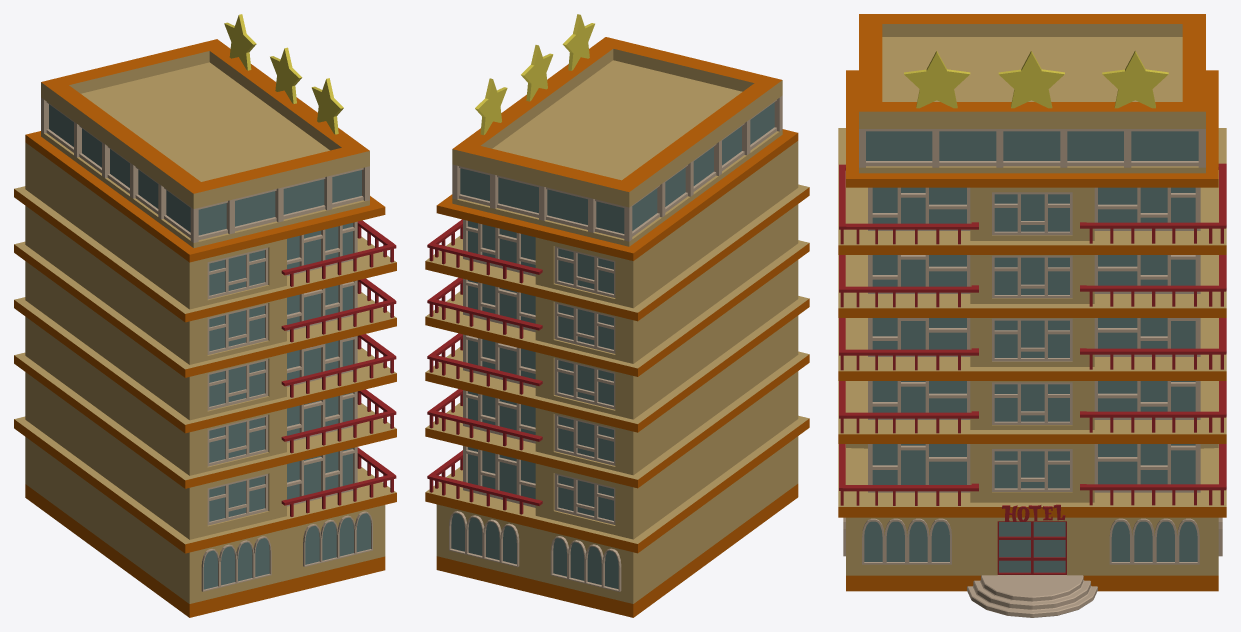
The model's file is building5.glb.
3 views of the same model, side by side, from view 1: azimuth 30°, elevation 25°; view 2: azimuth 150°, elevation 25°; view 3: azimuth 270°, elevation 25° (orthographic). The views are drawn at different scales.
Visible parts, largest first — view 1: Hotel(3star); view 2: Hotel(3star); view 3: Hotel(3star).
Part boxes in pixels (x1=…): Hotel(3star): x1=14, y1=14, x2=396, y2=617; Hotel(3star): x1=425, y1=14, x2=809, y2=617; Hotel(3star): x1=838, y1=14, x2=1226, y2=617.
Bounding box in the file's own units: 15.54 × 27.45 × 18.24.
